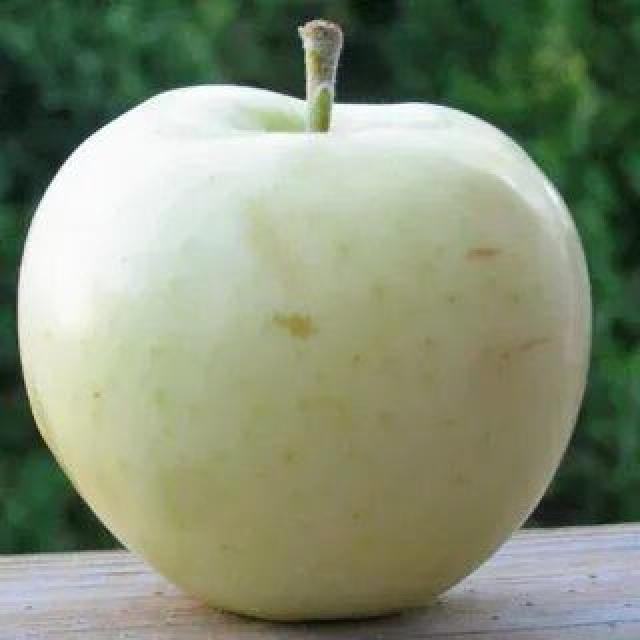Fresh Apple: (26, 78, 589, 640)
